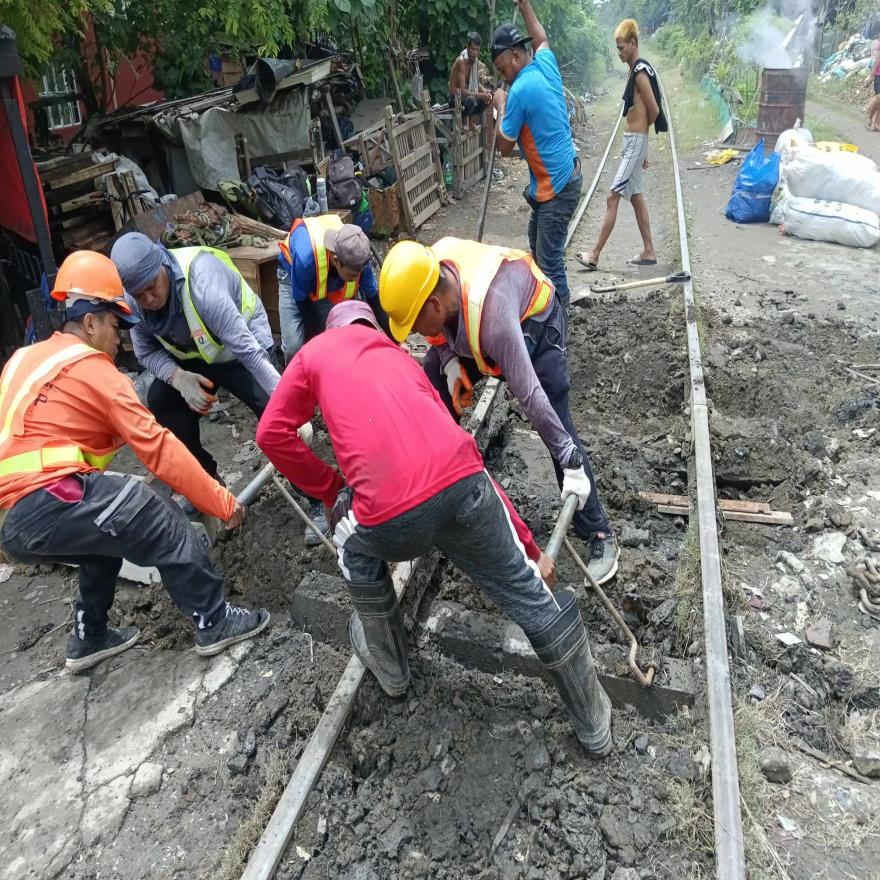railway-gap: (677, 384, 728, 427)
